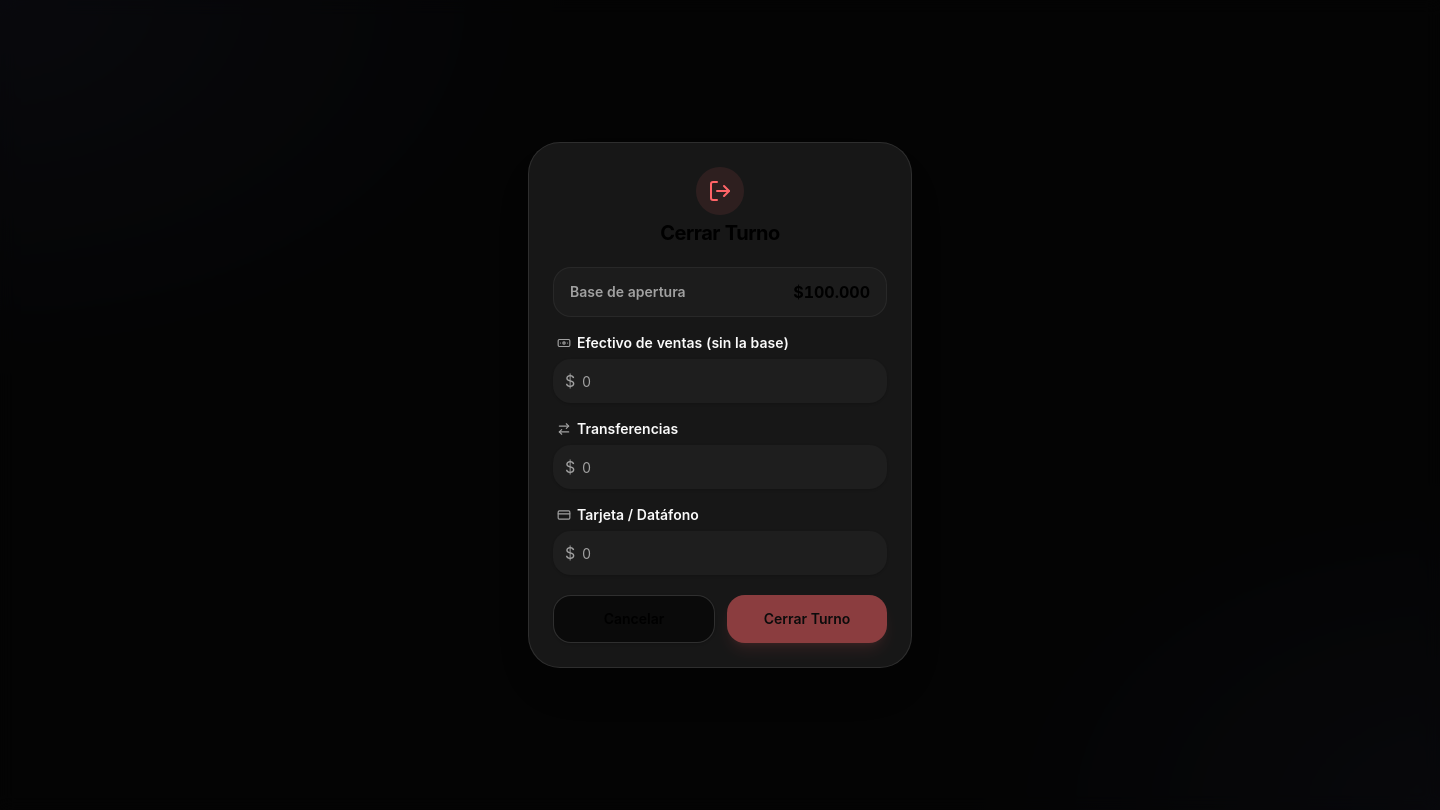
ShiftClosingModal — cuadre review › when a method is off: shows the signed difference and requires a reason
Step 1. Type "210000" into the field labelled "Efectivo de ventas (sin la base)" → (720, 381), box [553,359,887,403]
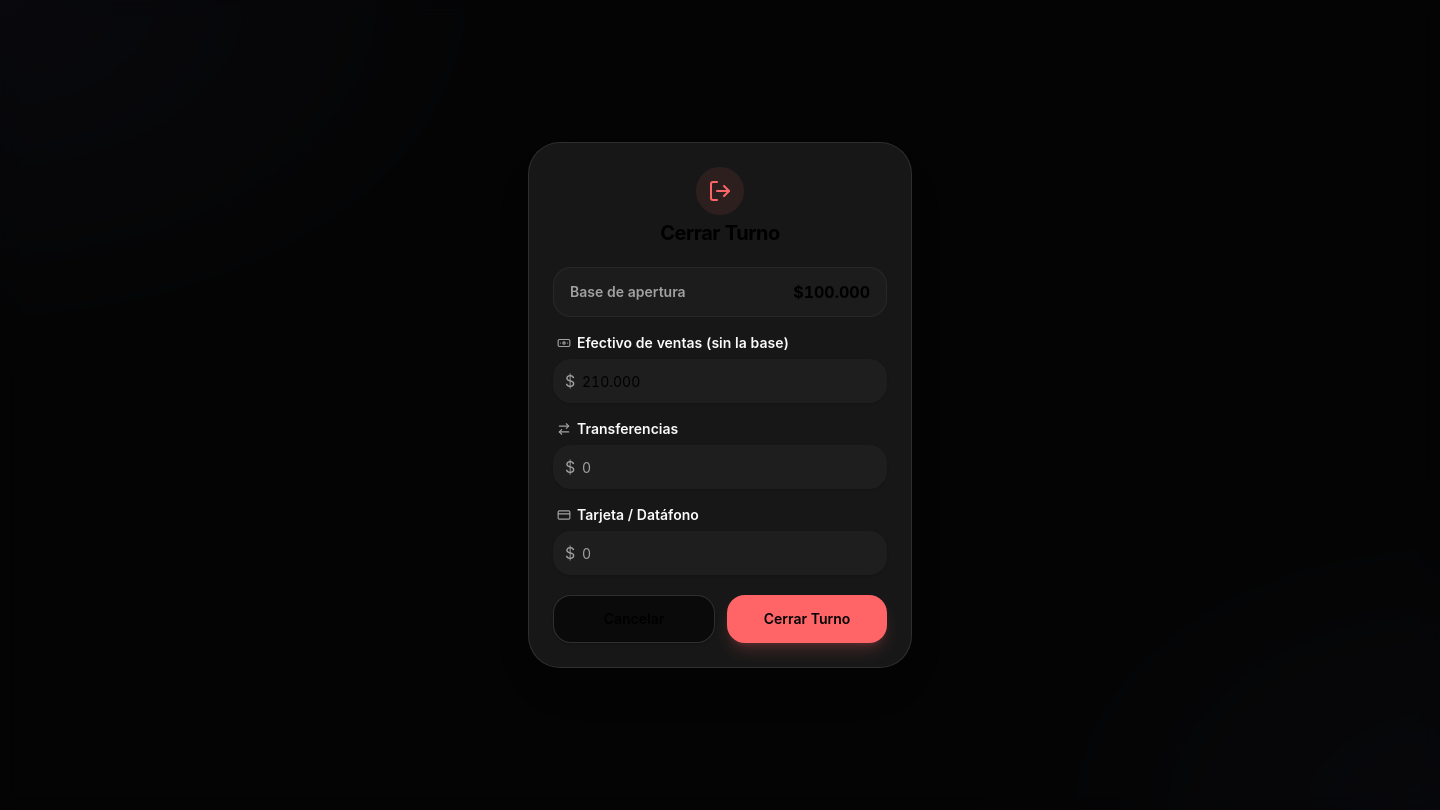
Step 2. Type "20000" into the field labelled "Transferencias" → (720, 467), box [553,445,887,489]
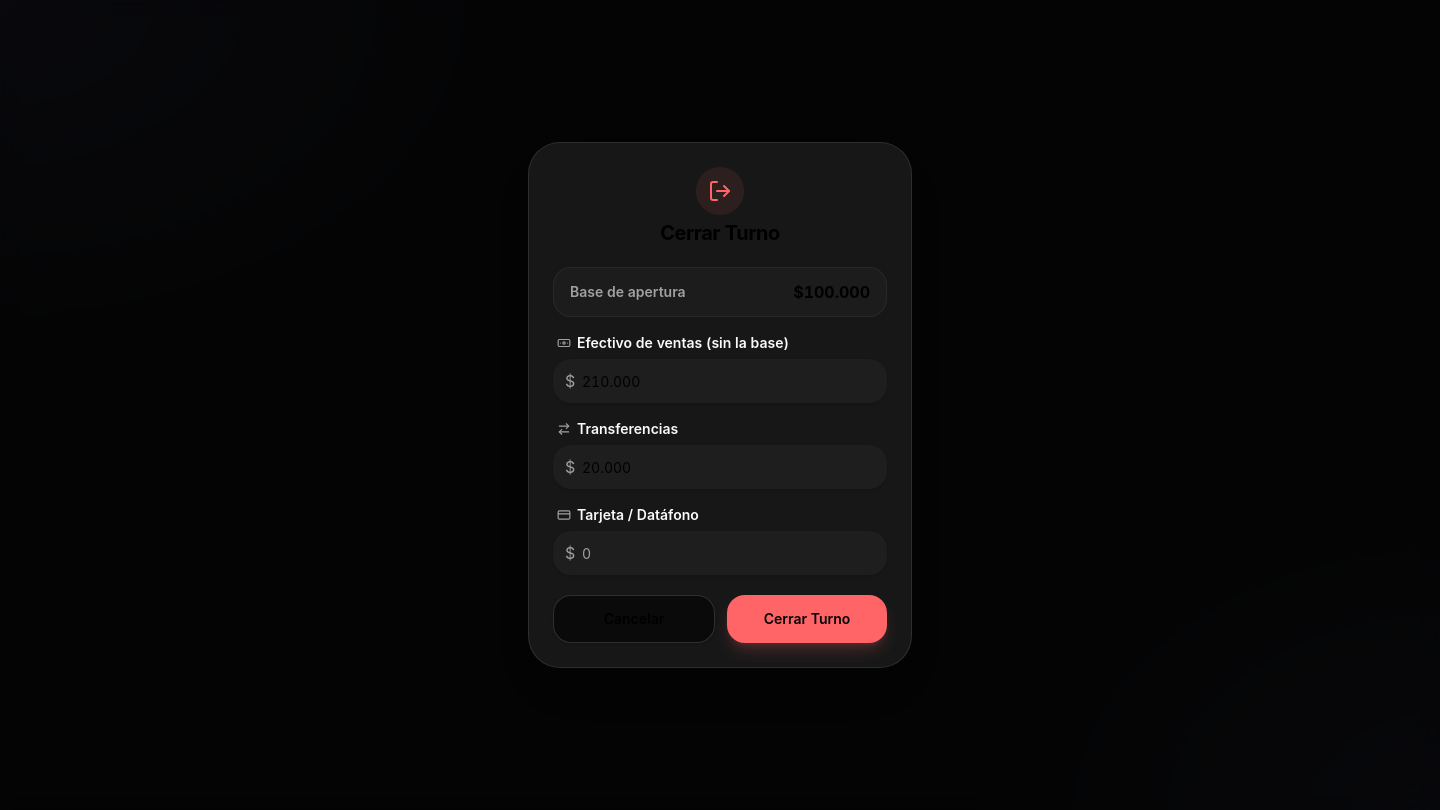
Step 3. Type "30000" into the field labelled "Tarjeta / Datáfono" → (720, 553), box [553,531,887,575]
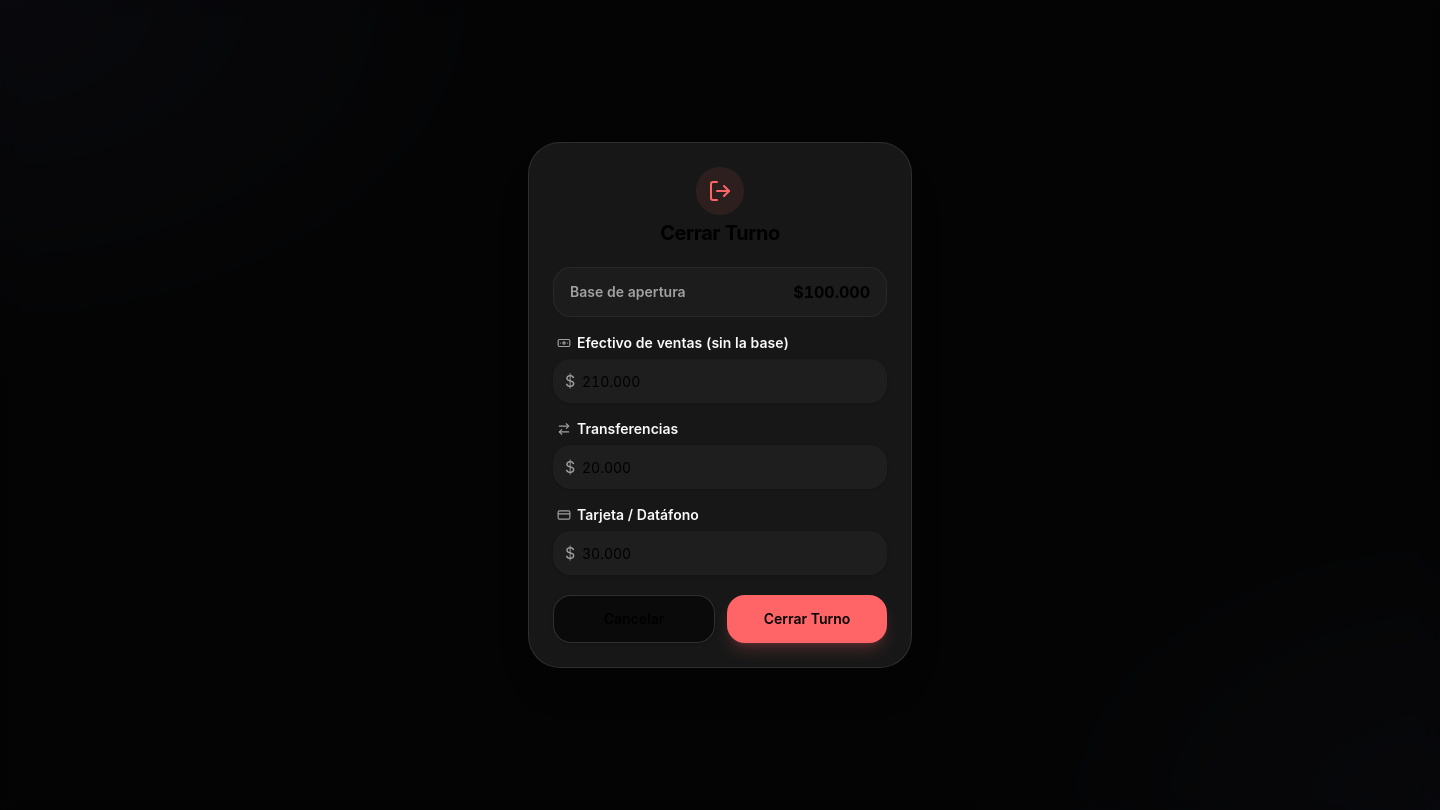
Step 4. Click the button "Cerrar Turno" → (807, 619), box [727,595,887,643]
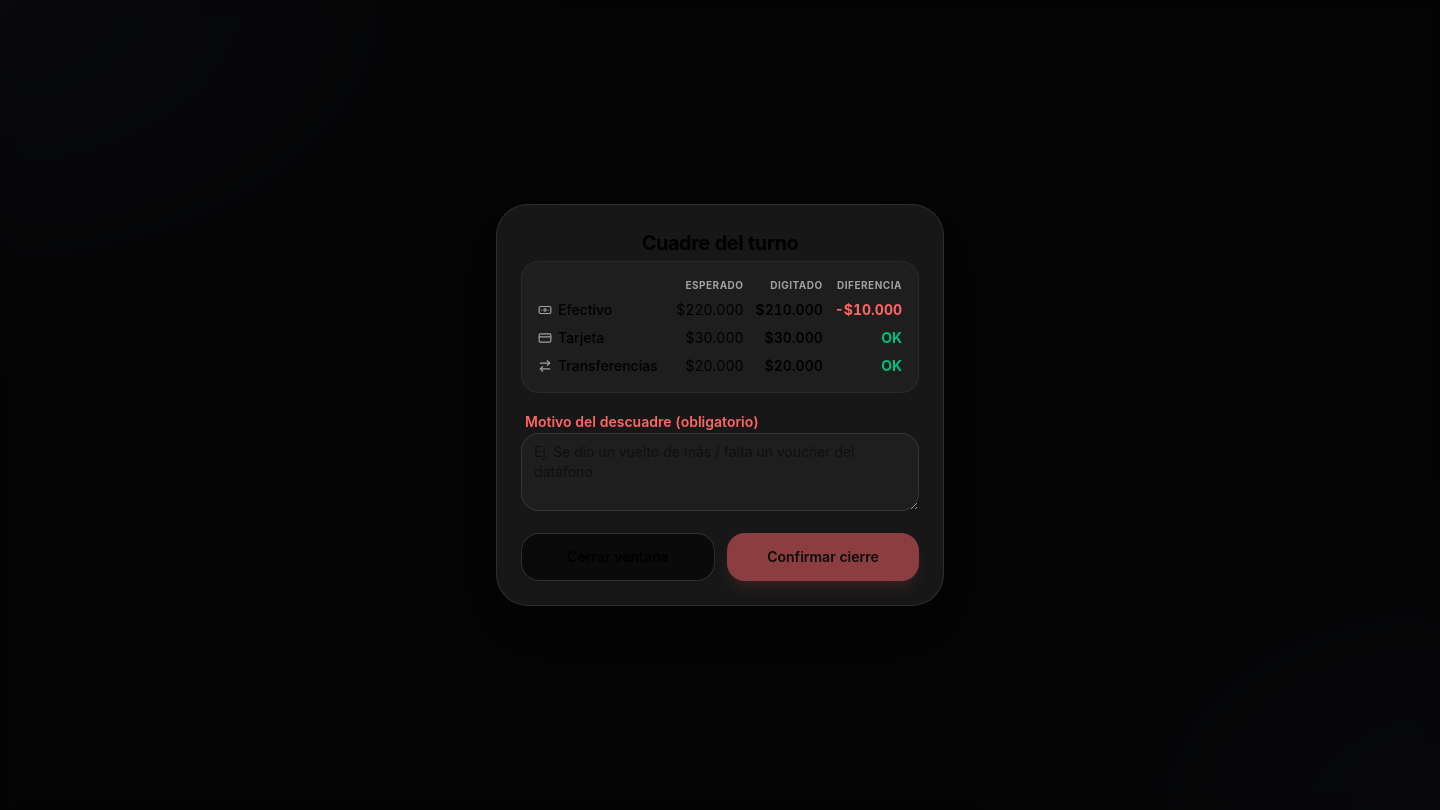
Check: the text "-$10.000" is shown, box [835,300,902,320]
Check: the text box labelled "Motivo del descuadre (obligatorio)" is shown, box [521,433,919,511]
Check: the button "Confirmar cierre" is disabled, box [727,533,919,581]
